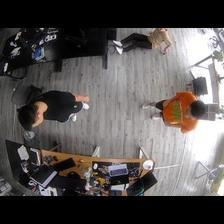fall: (112, 28, 173, 56)
normal: (18, 89, 95, 132), (137, 88, 207, 133)
